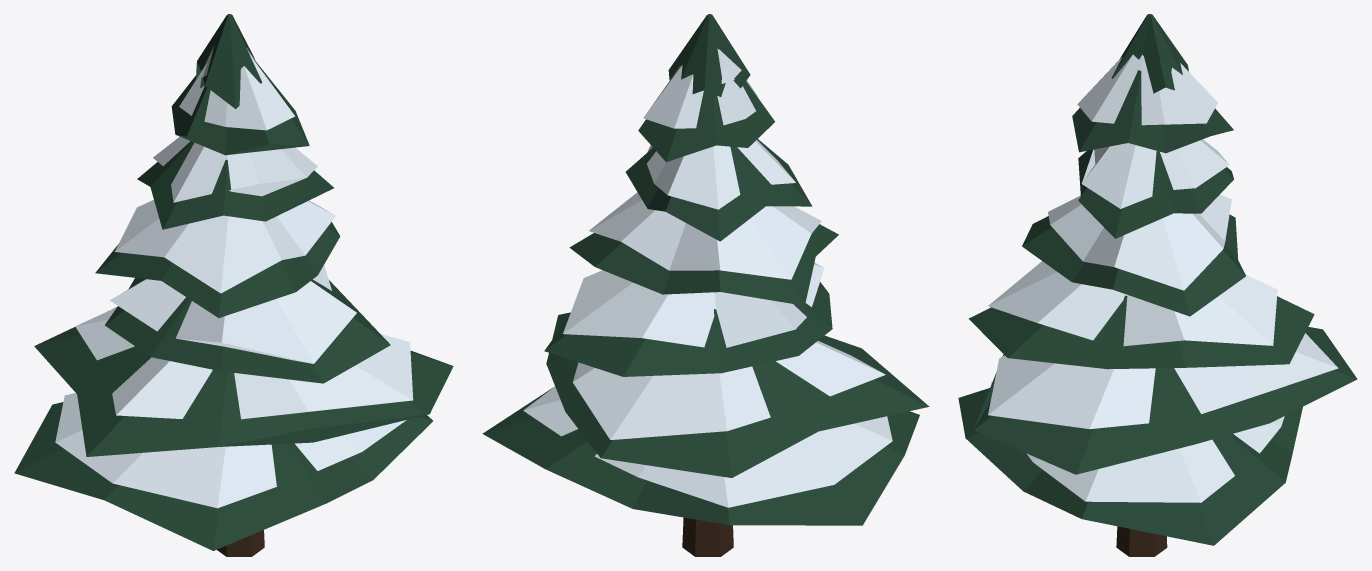
File: Station_Pine_7_0_0.fbx
3 views of the same model, side by side, from view 1: azimuth 30°, elevation 25°; view 2: azimuth 150°, elevation 25°; view 3: azimuth 270°, elevation 25° (orthographic).
Visible parts, largest first — view 1: Station_Pine_7_0_0; view 2: Station_Pine_7_0_0; view 3: Station_Pine_7_0_0.
Part boxes in pixels (<box>): Station_Pine_7_0_0: <box>14,14,453,556</box>; Station_Pine_7_0_0: <box>482,14,929,556</box>; Station_Pine_7_0_0: <box>958,14,1357,556</box>.
Bounding box in the file's own units: 443 × 598 × 408.
